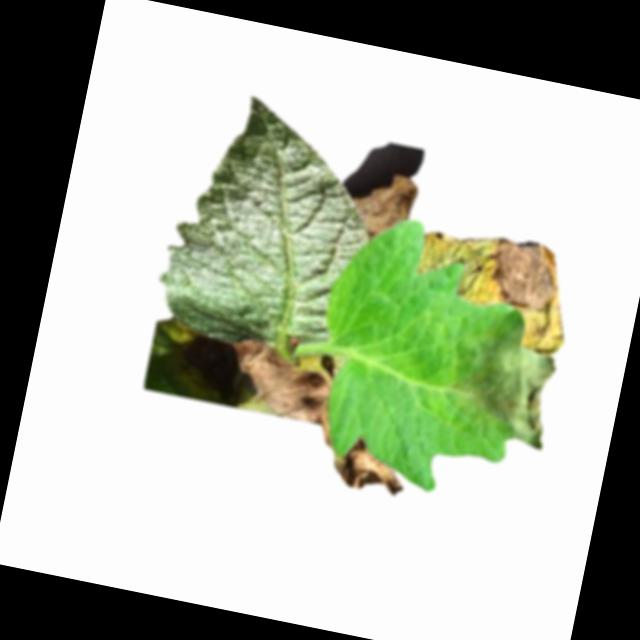Late_blight: (404, 217, 585, 357), (450, 305, 570, 453), (217, 333, 351, 448), (347, 167, 422, 249), (329, 433, 415, 499)
healthy: (147, 83, 394, 364)
